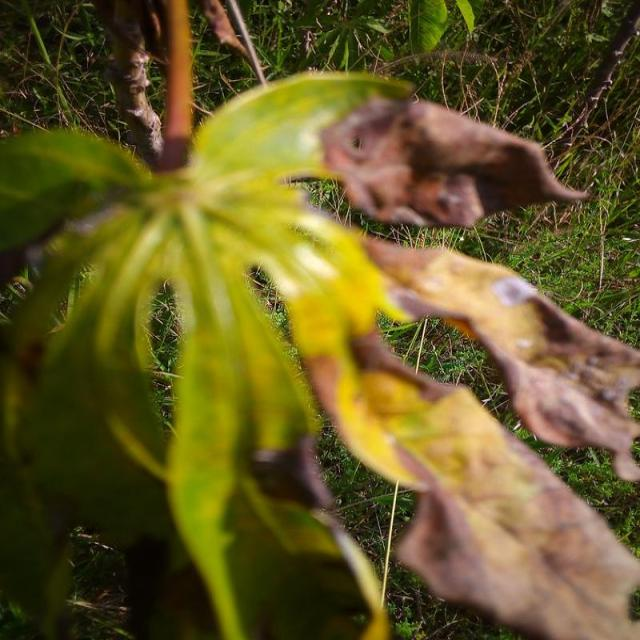cassava leaf: (0, 65, 638, 637)
